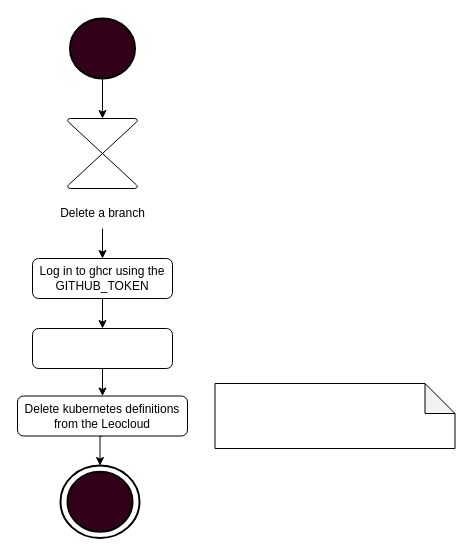
Some shapes in this 473 by 556 pixel diagram are drawn without their labels. Here are the shapes that lost their labels. From the top down, the centre of each, then its label:
(102,348): Delete image from ghcr
(334,415): Delete deployoment, service, service-account, role-bindings and ingress
